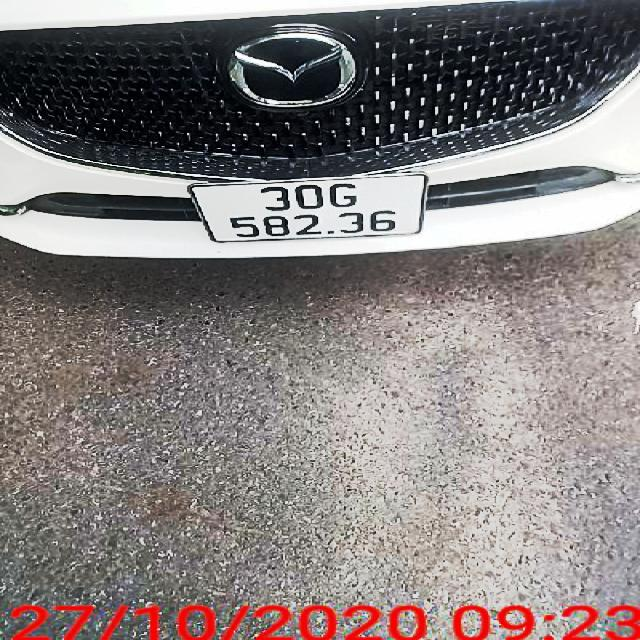license_plate: (191, 175, 429, 244)
